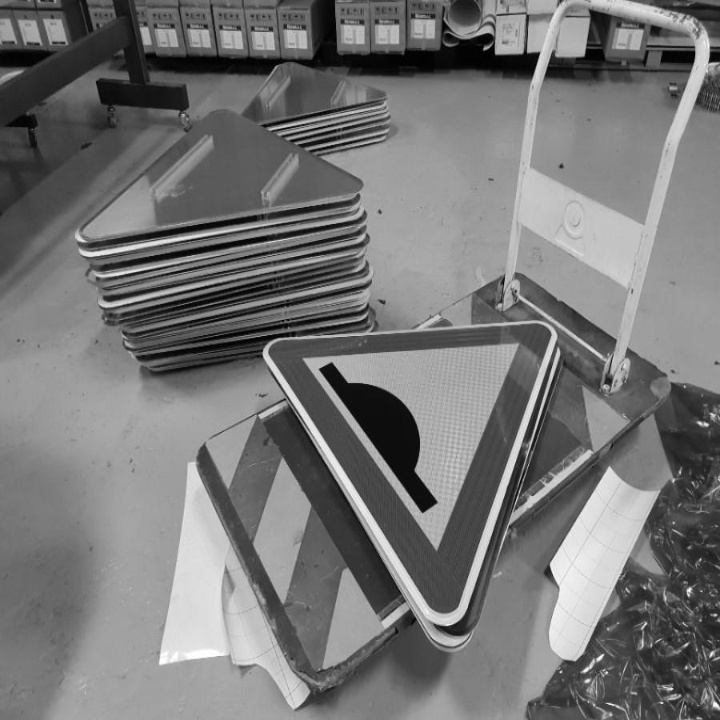bump: (270, 326, 449, 524)
